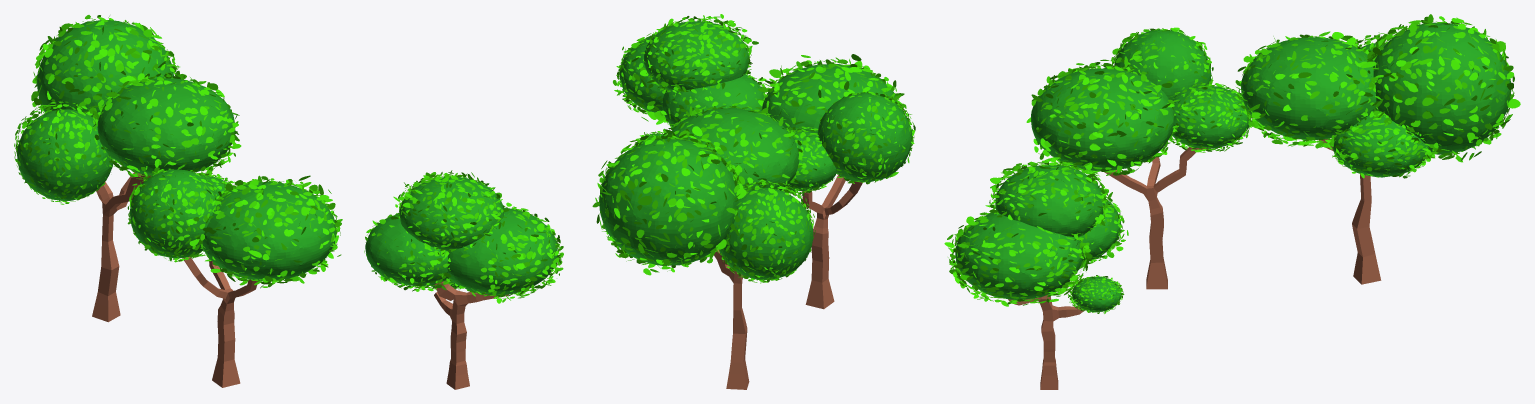
The model's file is Wit.fbx.
3 views of the same model, side by side, from view 1: azimuth 30°, elevation 25°; view 2: azimuth 150°, elevation 25°; view 3: azimuth 270°, elevation 25° (orthographic). The views are drawn at different scales.
Visible parts, largest first — view 1: Sphere.003, Sphere, Sphere.004, Sphere.006, Sphere.007, Cube.003, Sphere.002, Cube.006, Sphere.009, Cube.005, Cube.008, Sphere.008 (+7 smaller); view 2: Sphere.004, Cube.006, Sphere.002, Sphere.003, Sphere.006, Sphere.009, Sphere, Cube.008, Cube.001, Cube.003, Plane, Cube.002 (+8 smaller); view 3: Sphere.004, Sphere, Sphere.003, Cube.006, Sphere.007, Cube.003, Sphere.009, Cube.005, Cube.007, Sphere.002, Sphere.001, Sphere.005 (+11 smaller).
Part boxes in pixels (x1,y1,x2,y2): Sphere.003: [97, 78, 235, 175]; Sphere: [202, 182, 335, 280]; Sphere.004: [36, 20, 173, 119]; Sphere.006: [17, 109, 113, 200]; Sphere.007: [447, 208, 557, 295]; Cube.003: [189, 175, 342, 288]; Sphere.002: [129, 169, 219, 258]; Cube.006: [31, 15, 186, 119]; Sphere.009: [399, 177, 503, 250]; Cube.005: [89, 72, 241, 179]; Cube.008: [393, 170, 511, 256]; Sphere.008: [365, 213, 448, 286]; Sphere.004: [599, 138, 738, 265]; Cube.006: [592, 126, 746, 275]; Sphere.002: [817, 93, 912, 182]; Sphere.003: [666, 108, 799, 190]; Sphere.006: [719, 188, 813, 279]; Sphere.009: [644, 21, 749, 91]; Sphere: [762, 64, 897, 133]; Cube.008: [640, 14, 758, 94]; Cube.001: [717, 181, 815, 283]; Cube.003: [755, 54, 906, 124]; Plane: [801, 175, 862, 309]; Cube.002: [818, 91, 915, 184]; Sphere.004: [1373, 22, 1511, 154]; Sphere: [1031, 68, 1174, 171]; Sphere.003: [1241, 37, 1376, 140]; Cube.006: [1361, 14, 1520, 162]; Sphere.007: [955, 212, 1082, 299]; Cube.003: [1026, 56, 1178, 176]; Sphere.009: [995, 165, 1104, 236]; Cube.005: [1235, 31, 1381, 148]; Cube.007: [944, 212, 1092, 306]; Sphere.002: [1114, 29, 1211, 99]; Sphere.001: [1172, 85, 1250, 148]; Sphere.005: [1332, 115, 1429, 177].
Size of the model in its own units: 1668 by 1186 by 2242.
